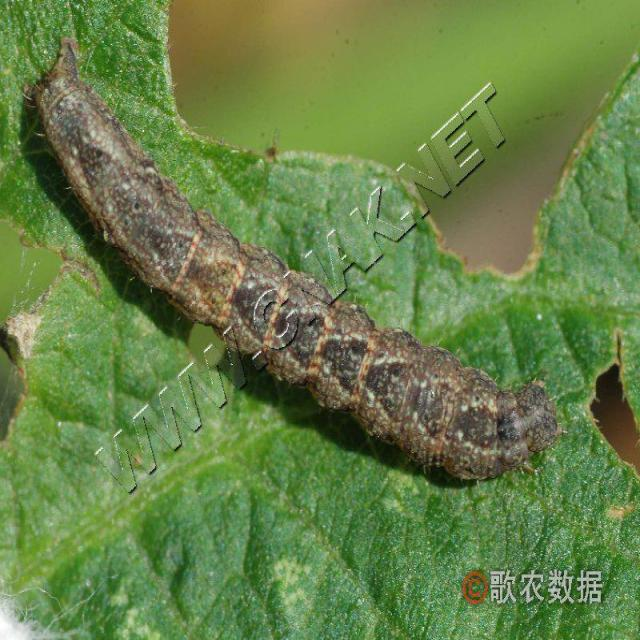armyworm: (10, 21, 590, 499)
